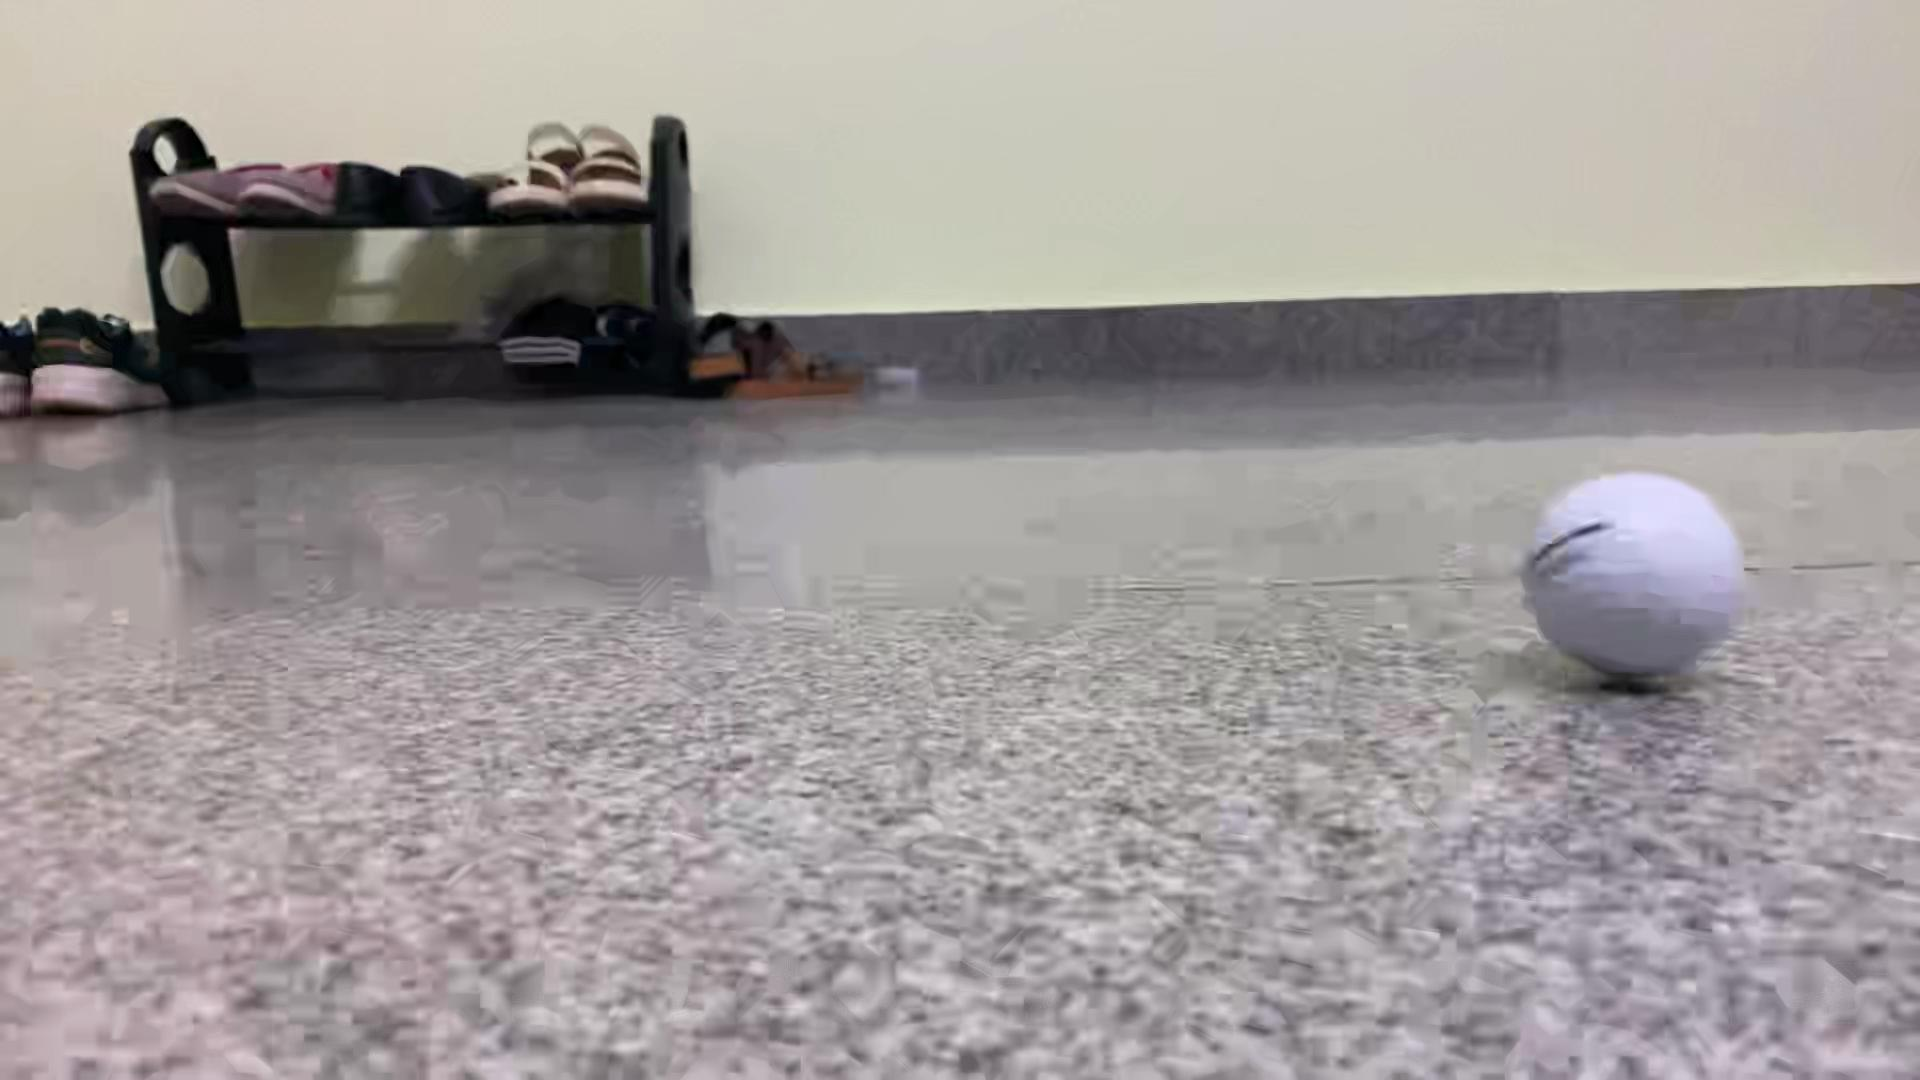golfball: (1522, 473, 1745, 682)
